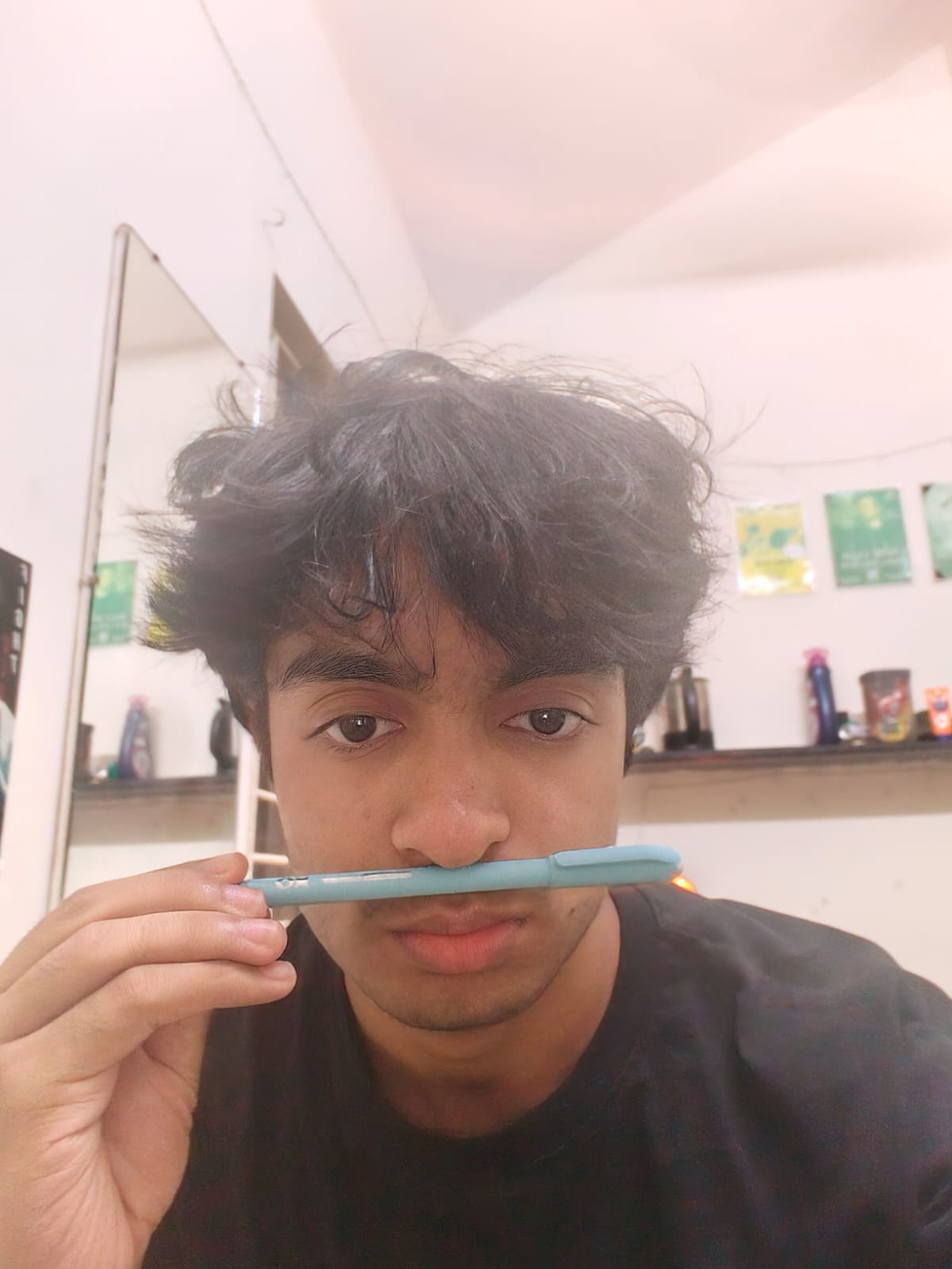pen: (222, 835, 711, 905)
